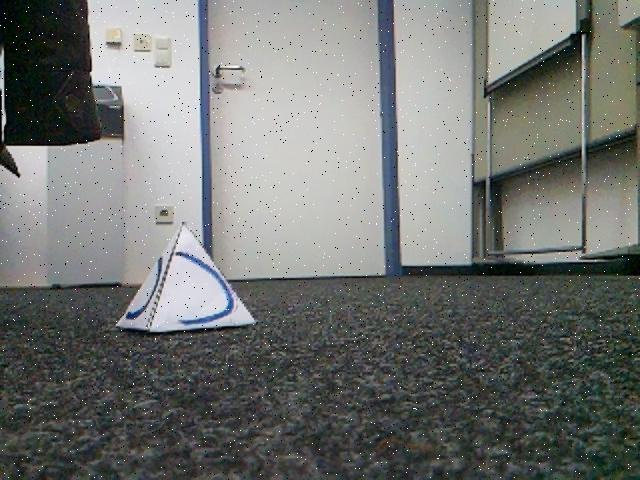C: (117, 220, 256, 332)
